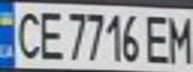1: (103, 10, 124, 62)
6: (121, 10, 145, 64)
7: (63, 7, 87, 61), (84, 9, 106, 62)
C: (6, 7, 45, 61)
E: (33, 7, 66, 61), (142, 11, 175, 64)
M: (163, 11, 193, 65)
